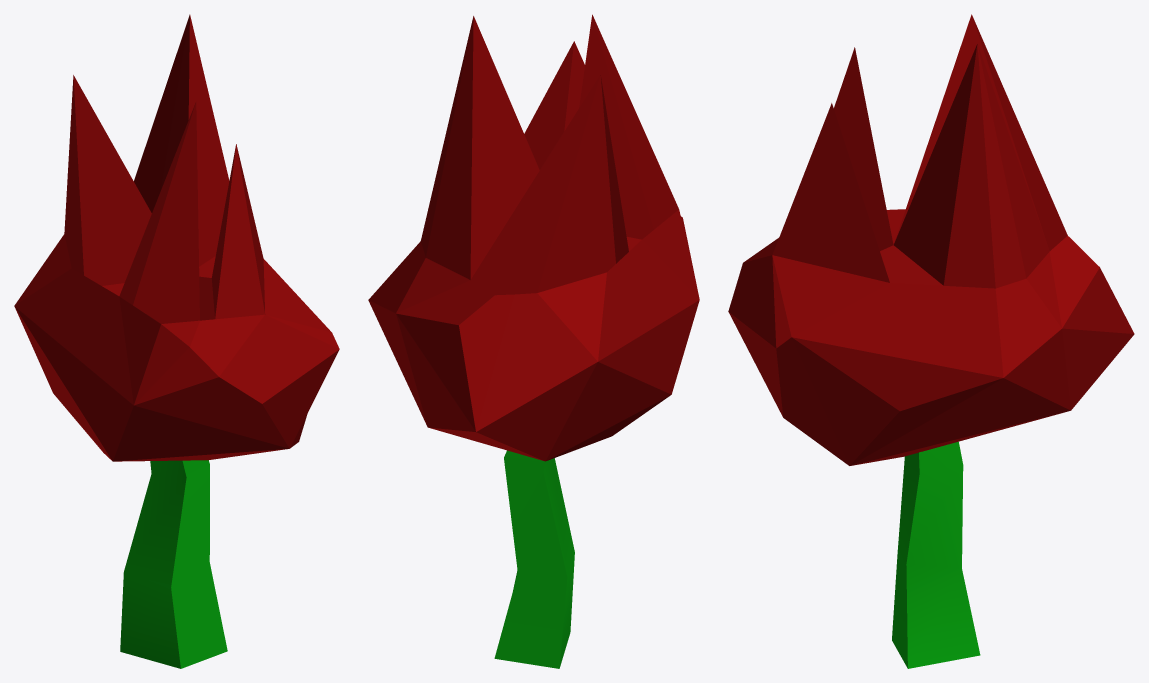
Rendered from fleur_1.FBX.
3 renders of one model, left to right at view 1: azimuth 30°, elevation 25°; view 2: azimuth 150°, elevation 25°; view 3: azimuth 270°, elevation 25°, orthographic. The views are drawn at different scales.
Parts seen in each view (by area): view 1: GeoSphere081; view 2: GeoSphere081; view 3: GeoSphere081.
Part boxes in pixels (<box>): GeoSphere081: <box>14,14,339,668</box>; GeoSphere081: <box>368,14,699,668</box>; GeoSphere081: <box>728,14,1134,668</box>.
Bounding box in the file's own units: 0.2173 × 0.5403 × 0.3183.
